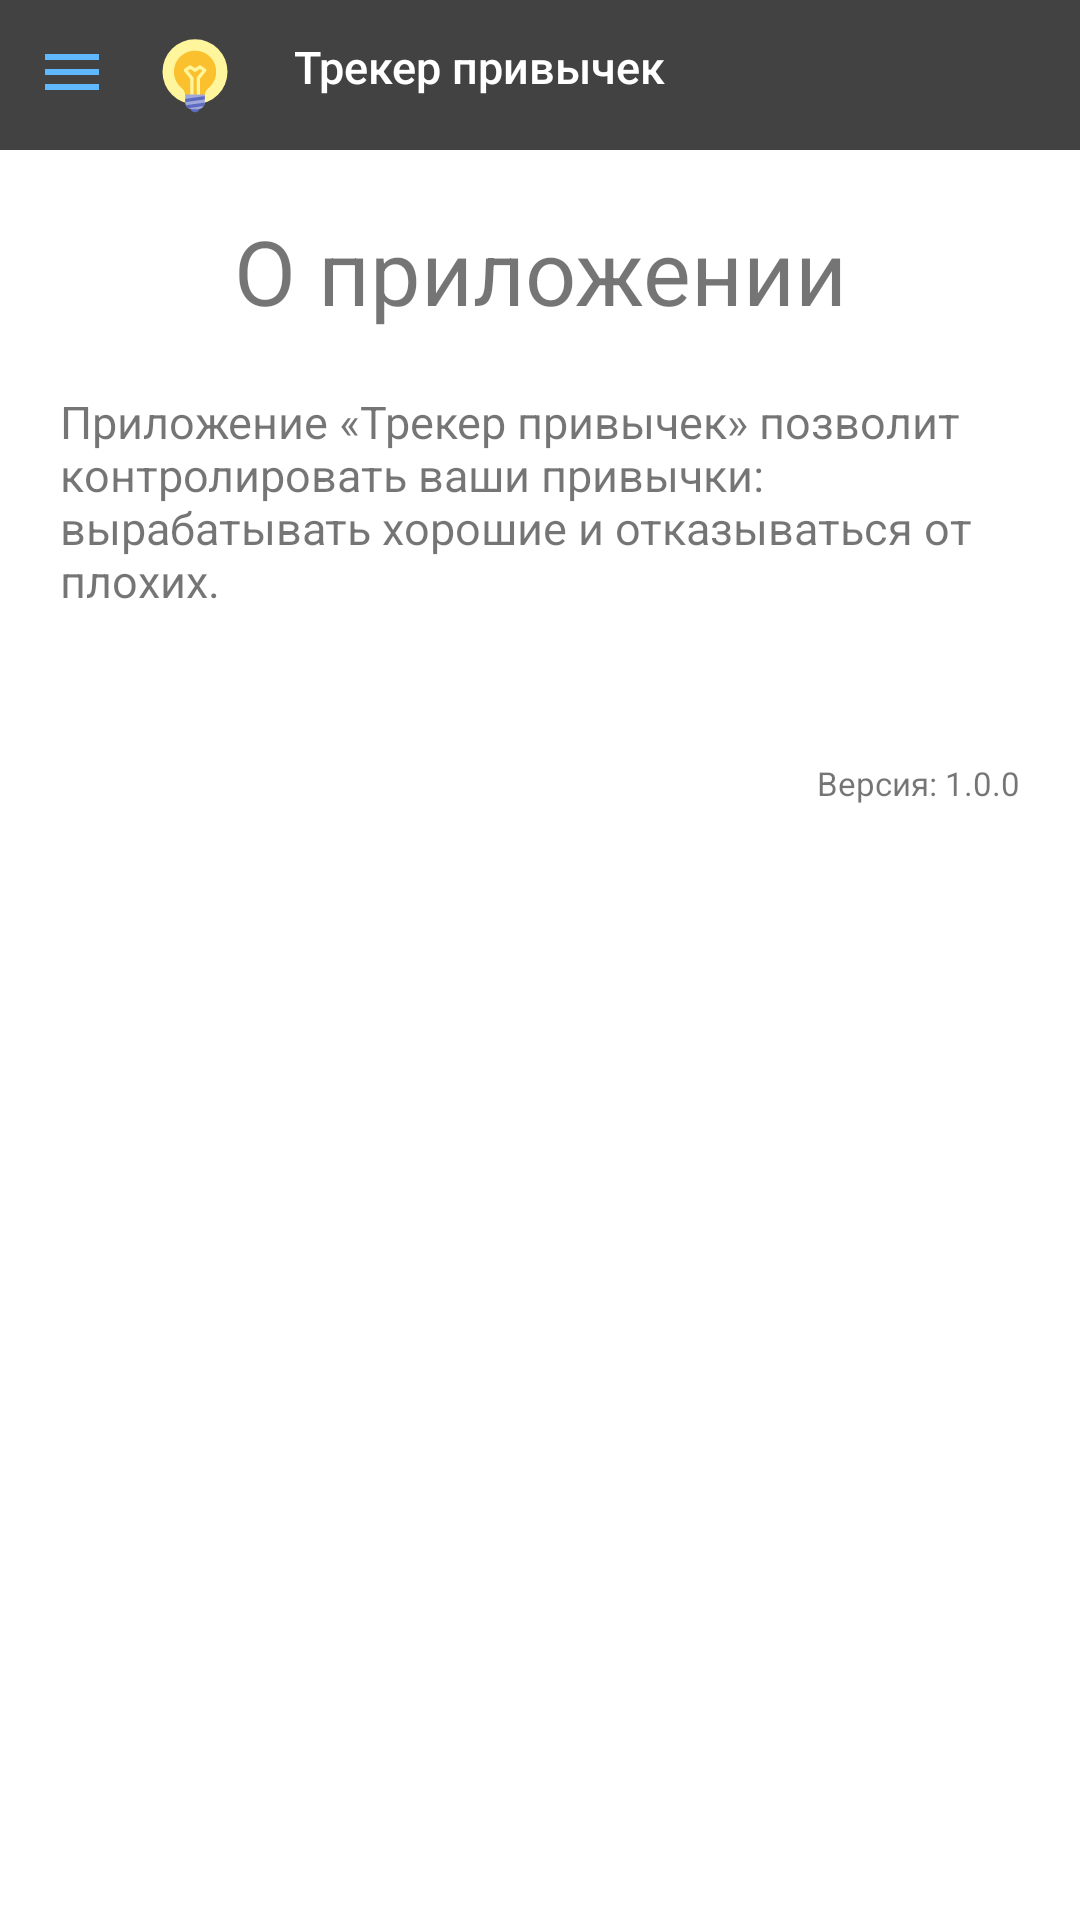

Icon click points for this 1080 × 1920 phone screenshot, format point (x, y):
Меню: point (72, 72)
